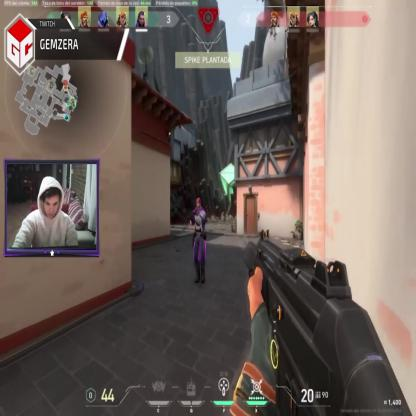enemy: (189, 195, 207, 286)
enemy_head: (196, 198, 201, 211)
